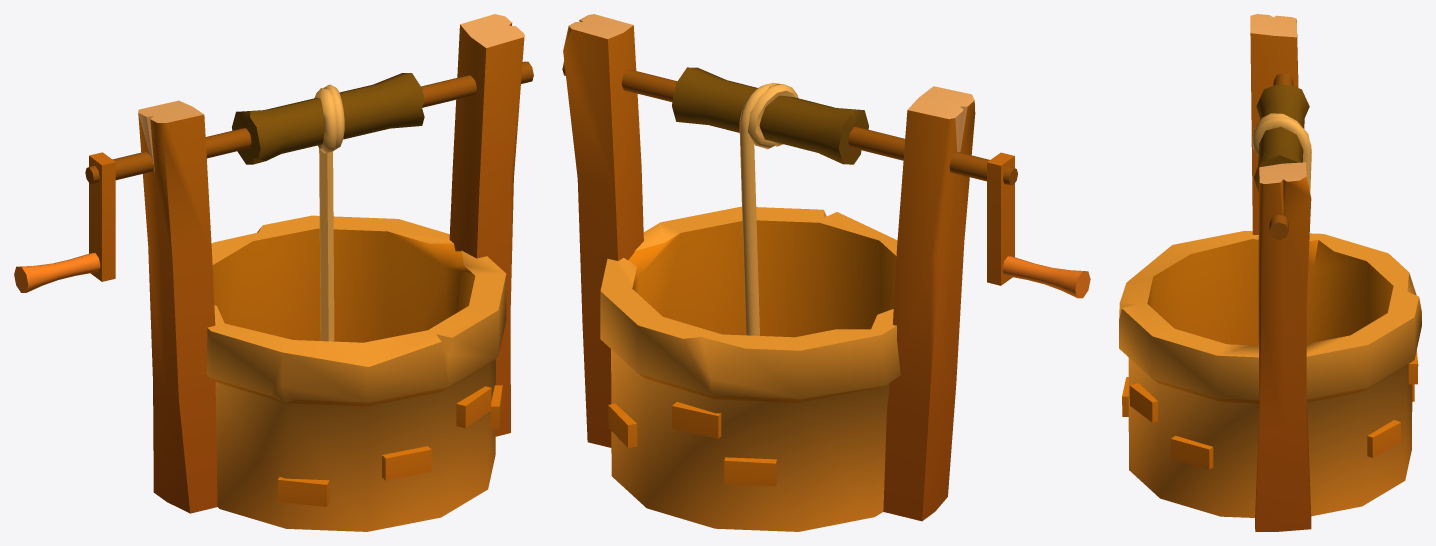
Rendered from Prop_Desert_Well_01.fbx.
The picture shows the model from 3 angles, left to right: view 1: azimuth 30°, elevation 25°; view 2: azimuth 150°, elevation 25°; view 3: azimuth 270°, elevation 25°; orthographic projection. The views are drawn at different scales.
Visible parts, largest first — view 1: Prop_Desert_Well_01; view 2: Prop_Desert_Well_01; view 3: Prop_Desert_Well_01.
Part boxes in pixels (left/top/right/bottom): Prop_Desert_Well_01: left=14, top=14, right=533, bottom=531; Prop_Desert_Well_01: left=562, top=14, right=1090, bottom=531; Prop_Desert_Well_01: left=1119, top=14, right=1421, bottom=531.
Size of the model in its own units: 163 by 123 by 93.14.
